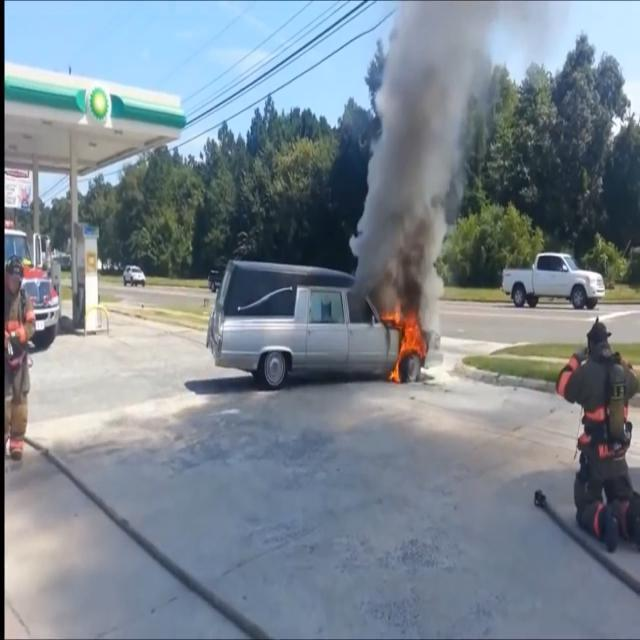fire: (378, 302, 430, 386)
